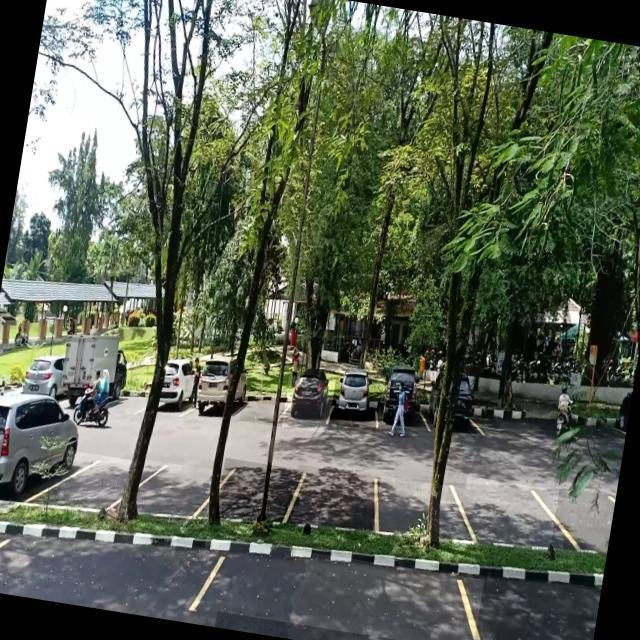empty: (195, 536, 484, 640), (0, 510, 227, 627), (458, 476, 560, 553), (370, 475, 476, 547), (288, 465, 381, 543), (216, 458, 304, 532), (136, 459, 214, 528), (58, 450, 134, 519), (240, 384, 288, 428)
occupied: (0, 391, 84, 510), (281, 374, 335, 434), (328, 378, 382, 431)
